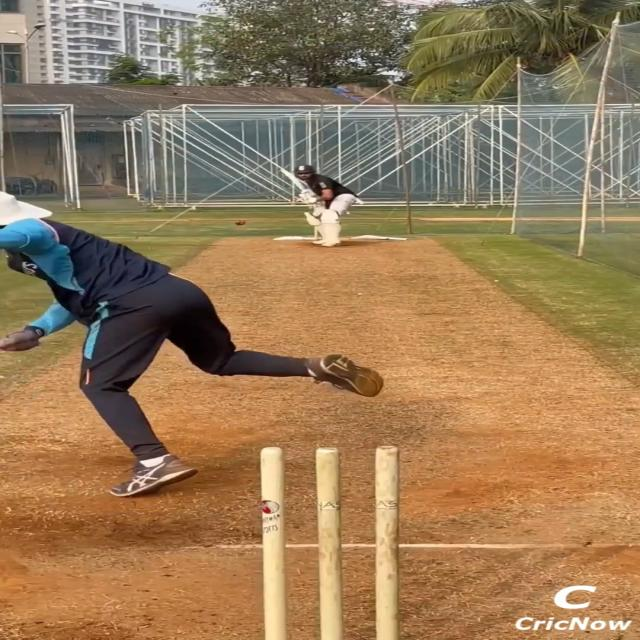ball: (234, 219, 247, 226)
stump: (258, 445, 400, 640)
